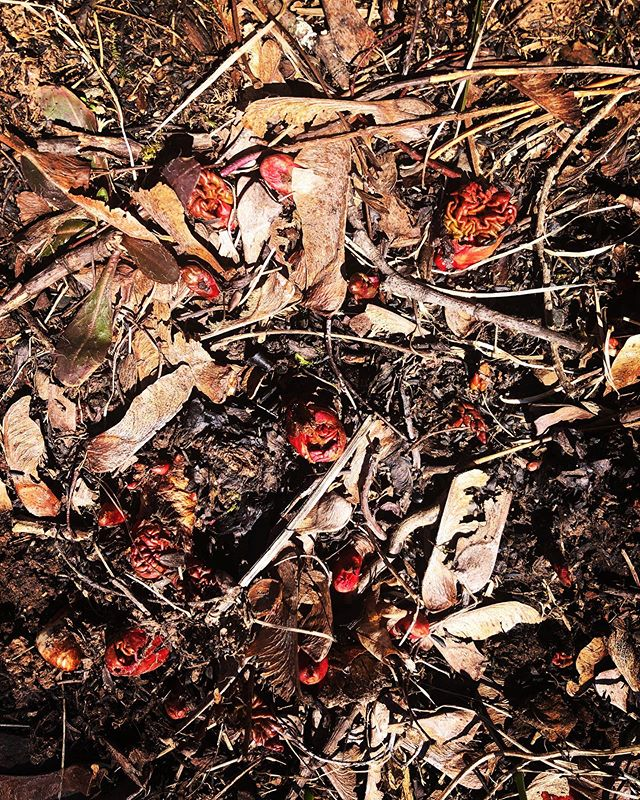vegetation: (1, 1, 626, 786)
